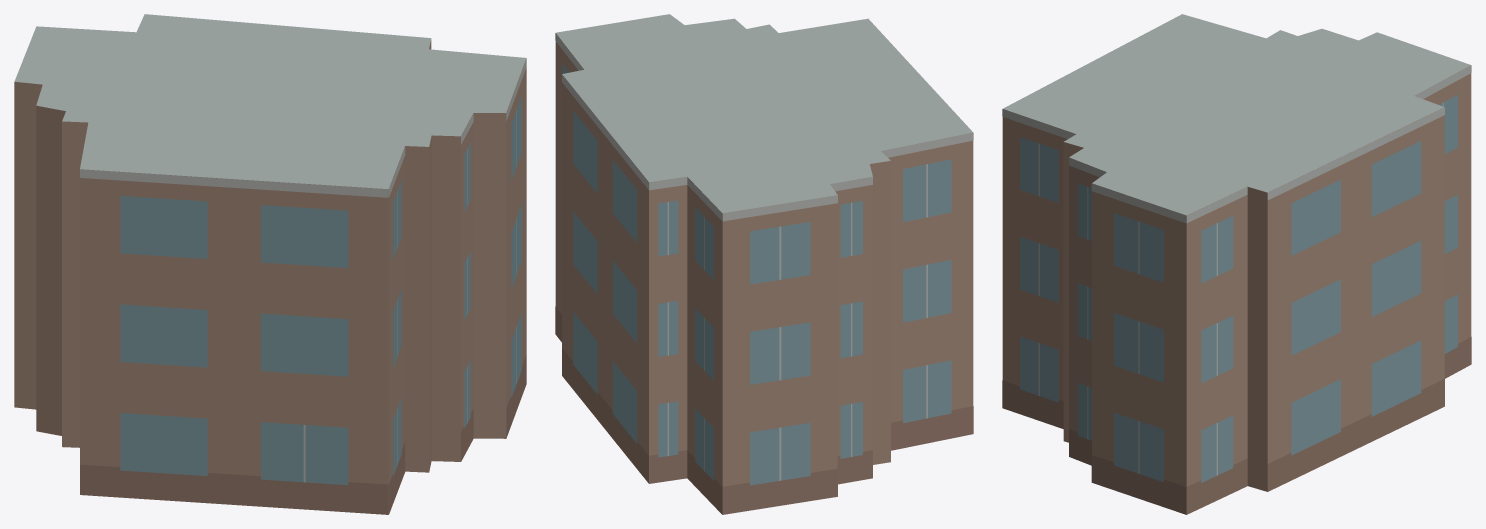
File: survey-upis-32968361.glb
3 views of the same model, side by side, from view 1: azimuth 30°, elevation 25°; view 2: azimuth 150°, elevation 25°; view 3: azimuth 270°, elevation 25° (orthographic). The views are drawn at different scales.
Visible parts, largest first — view 1: survey-upis-32968361.tmp; view 2: survey-upis-32968361.tmp; view 3: survey-upis-32968361.tmp.
Boxes of the visible parts, x1,y1,x2,y2 form: survey-upis-32968361.tmp: [14, 14, 526, 514]; survey-upis-32968361.tmp: [555, 14, 973, 514]; survey-upis-32968361.tmp: [1002, 14, 1471, 514].
Bounding box in the file's own units: 13.21 × 9.15 × 12.99.
